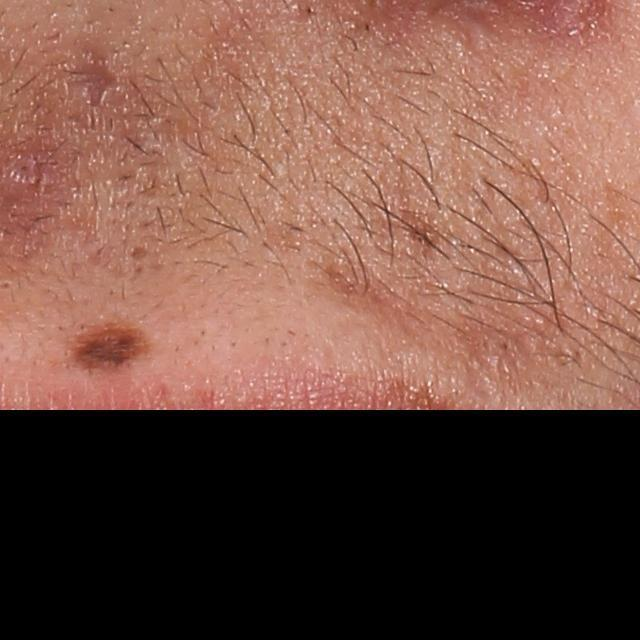atrophic_scar: (64, 43, 124, 105), (323, 256, 380, 310), (127, 242, 149, 260)
nevus: (65, 310, 153, 371)
